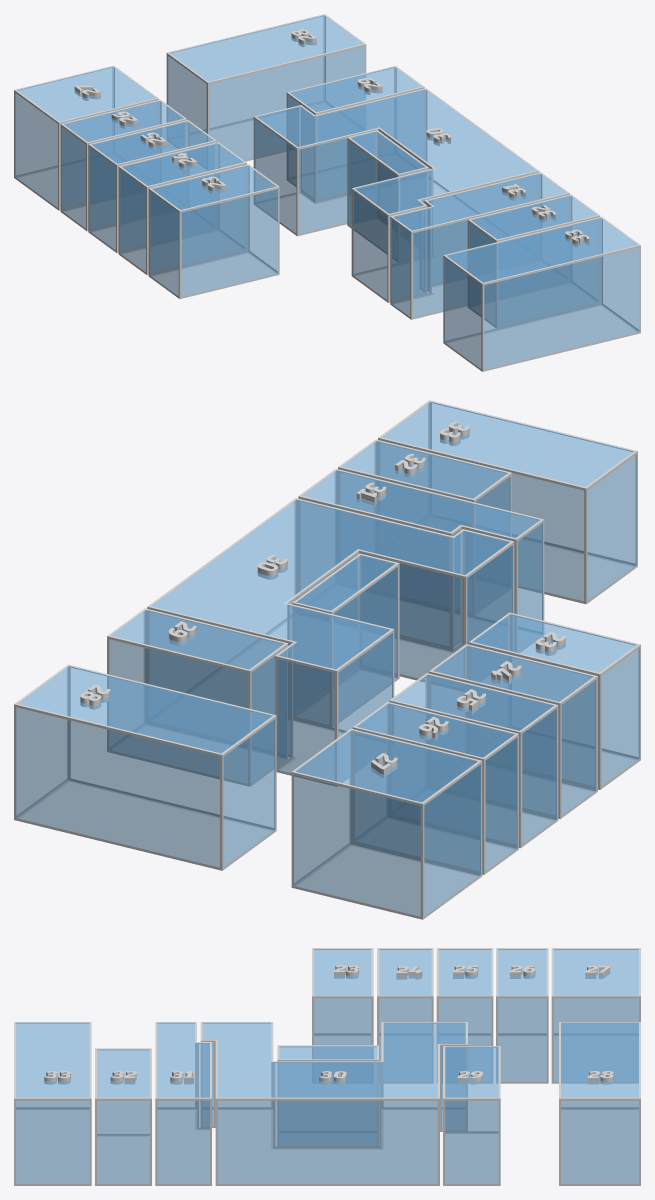
The model's file is Hospital_Selection_Boxes_SecondFloor1.glb.
3 renders of one model, top to bottom at view 1: azimuth 30°, elevation 25°; view 2: azimuth 150°, elevation 25°; view 3: azimuth 270°, elevation 25°, orthographic. The views are drawn at different scales.
Parts seen in each view (by area): view 1: Room_30, Room_33, Room_28, Room_23, Room_31, Room_32, Room_24, Room_27, Room_29, Room_25, Room_26, Room_30A; view 2: Room_30, Room_28, Room_27, Room_33, Room_31, Room_29, Room_26, Room_23, Room_24, Room_25, Room_30A, Room_32; view 3: Room_30, Room_28, Room_33, Room_27, Room_30A, Room_31, Room_29, Room_32, Room_24, Room_26, Room_23, Room_25.
Boxes of the visible parts, x1,y1,x2,y2 form: Room_30: (253, 88, 539, 302); Room_33: (443, 216, 640, 371); Room_28: (166, 14, 366, 169); Room_23: (148, 164, 279, 298); Room_31: (390, 172, 569, 319); Room_32: (467, 194, 600, 327); Room_24: (118, 142, 246, 274); Room_27: (14, 65, 158, 210); Room_29: (286, 66, 424, 200); Room_25: (88, 120, 216, 252); Room_26: (60, 99, 186, 231); Room_30A: (347, 130, 428, 261); Room_30: (147, 498, 514, 786); Room_28: (14, 664, 276, 870); Room_27: (291, 728, 482, 919); Room_33: (378, 400, 637, 604); Room_31: (298, 468, 544, 652); Room_29: (107, 608, 288, 786); Room_26: (352, 701, 518, 874); Room_23: (468, 612, 640, 789); Room_24: (429, 644, 597, 819); Room_25: (389, 673, 558, 848); Room_30A: (292, 553, 399, 727); Room_32: (338, 439, 511, 614); Room_30: (200, 1022, 467, 1185); Room_28: (559, 1022, 640, 1185); Room_33: (14, 1022, 91, 1185); Room_27: (551, 948, 640, 1083); Room_30A: (277, 1045, 378, 1146); Room_31: (155, 1022, 211, 1185); Room_29: (443, 1046, 500, 1185); Room_32: (95, 1048, 151, 1185); Room_24: (377, 948, 433, 1083); Room_26: (496, 948, 548, 1083); Room_23: (312, 948, 373, 1082); Room_25: (436, 948, 493, 1083).
Size of the model in its own units: 11.4 by 3.22 by 20.06.
